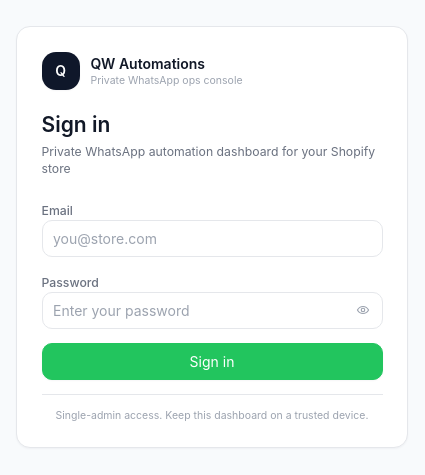
Test: validates invalid email
In the field labelled "Email": [212, 238] box [42, 220, 382, 256], type "not-email"
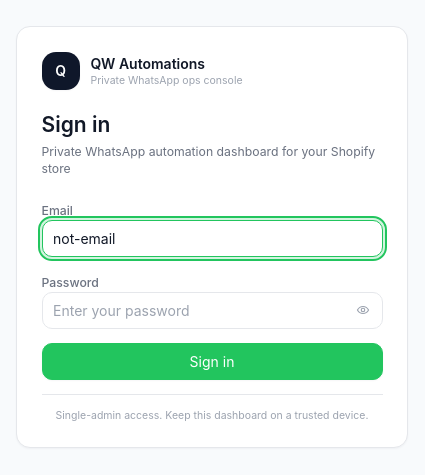
In the password field labelled "Password": [212, 310] box [42, 292, 382, 328], type "password123"
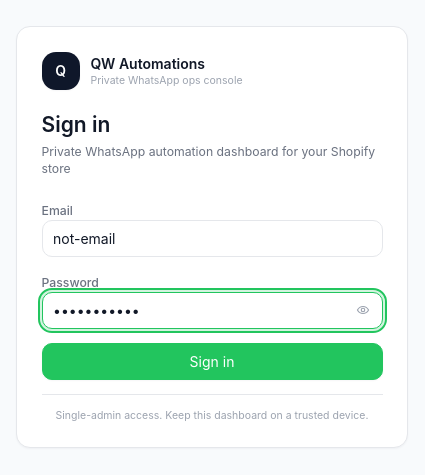
Click the button "Sign in": [212, 361] box [42, 342, 382, 380]
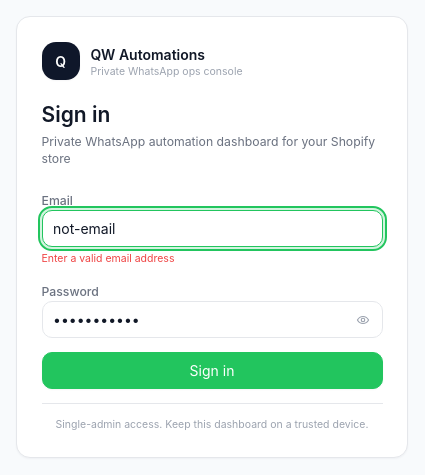
expect the text "Enter a valid email address" is shown: met, box [42, 252, 174, 265]
